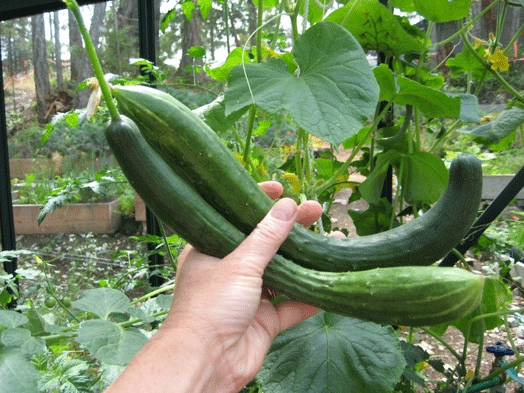cucumber: (102, 108, 488, 330), (111, 83, 483, 274)
